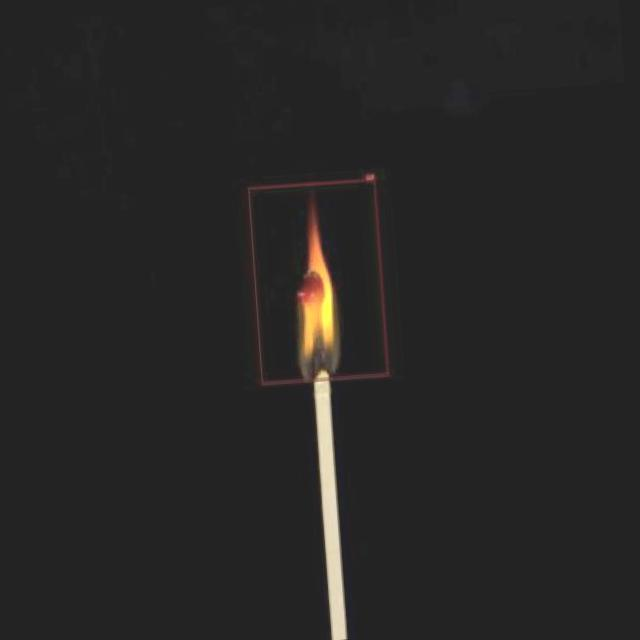fire: (249, 178, 388, 384)
